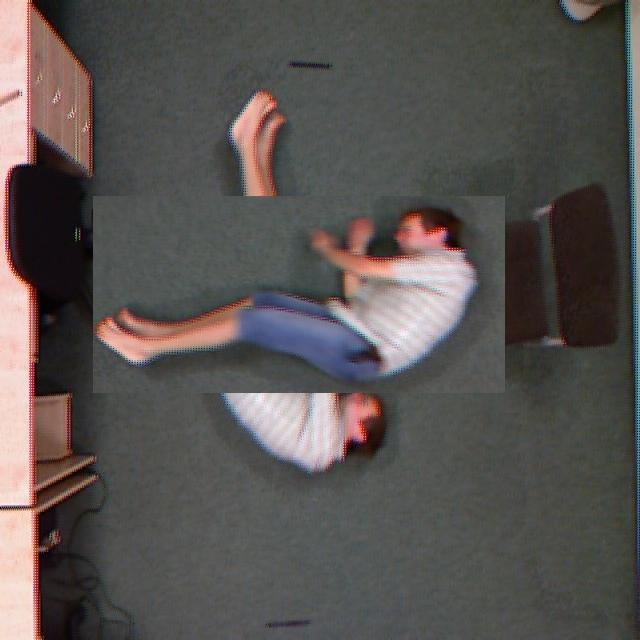Fall: (87, 196, 491, 418)
